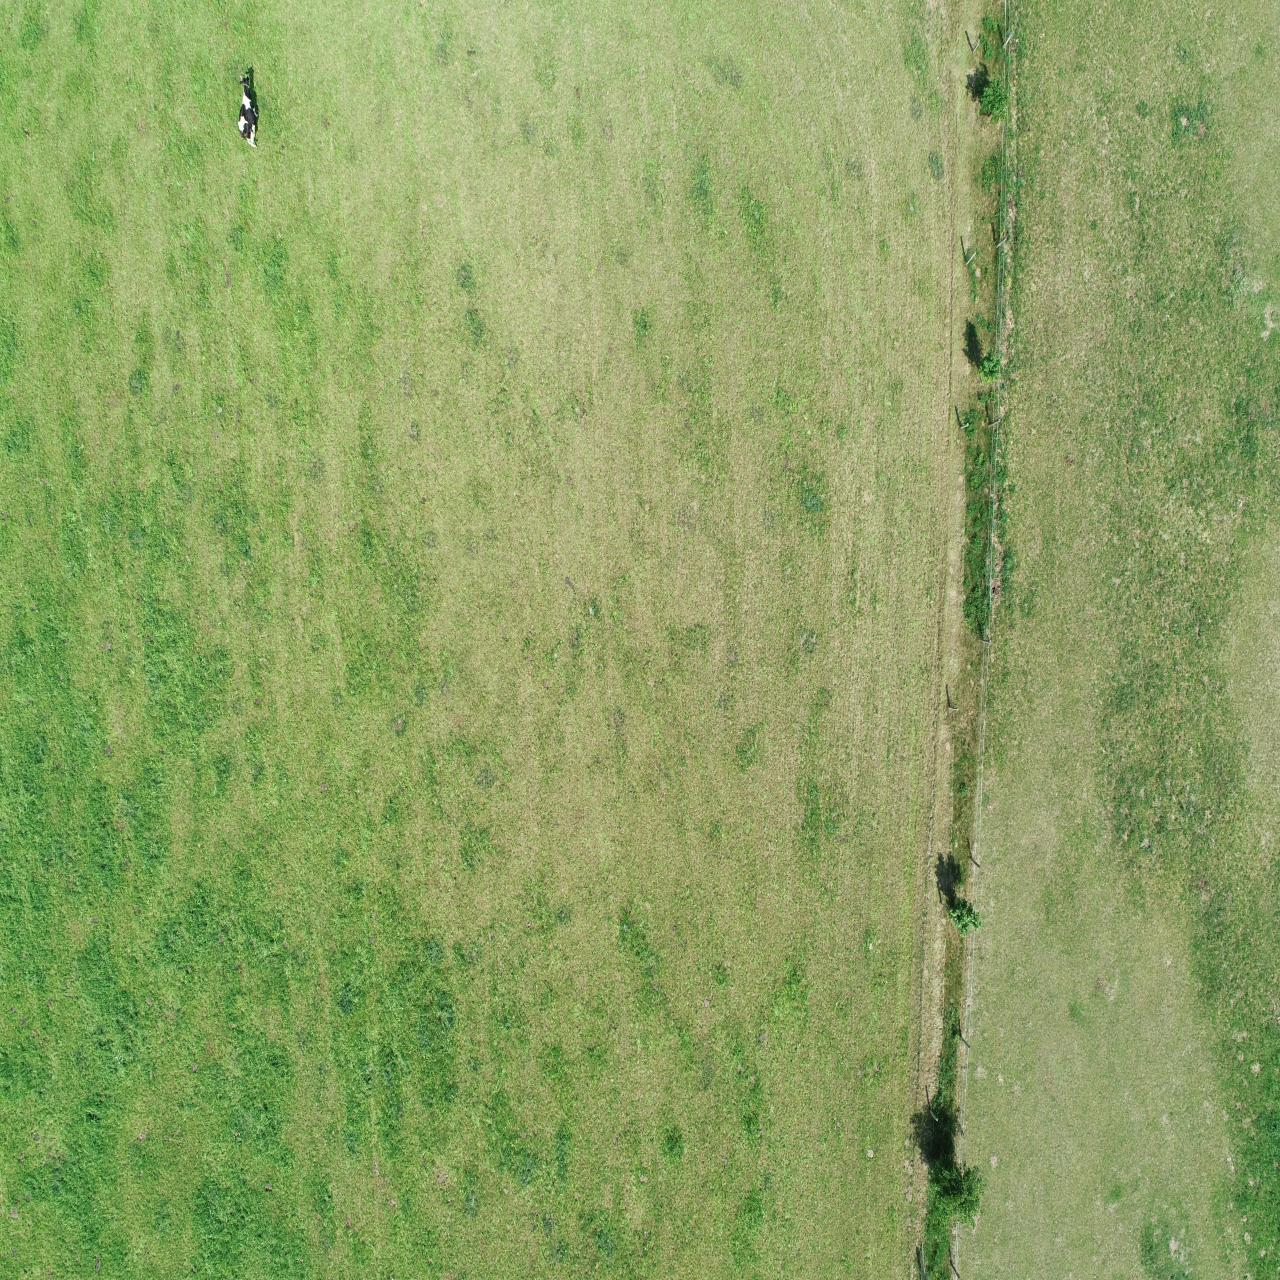cow: (236, 72, 263, 151)
